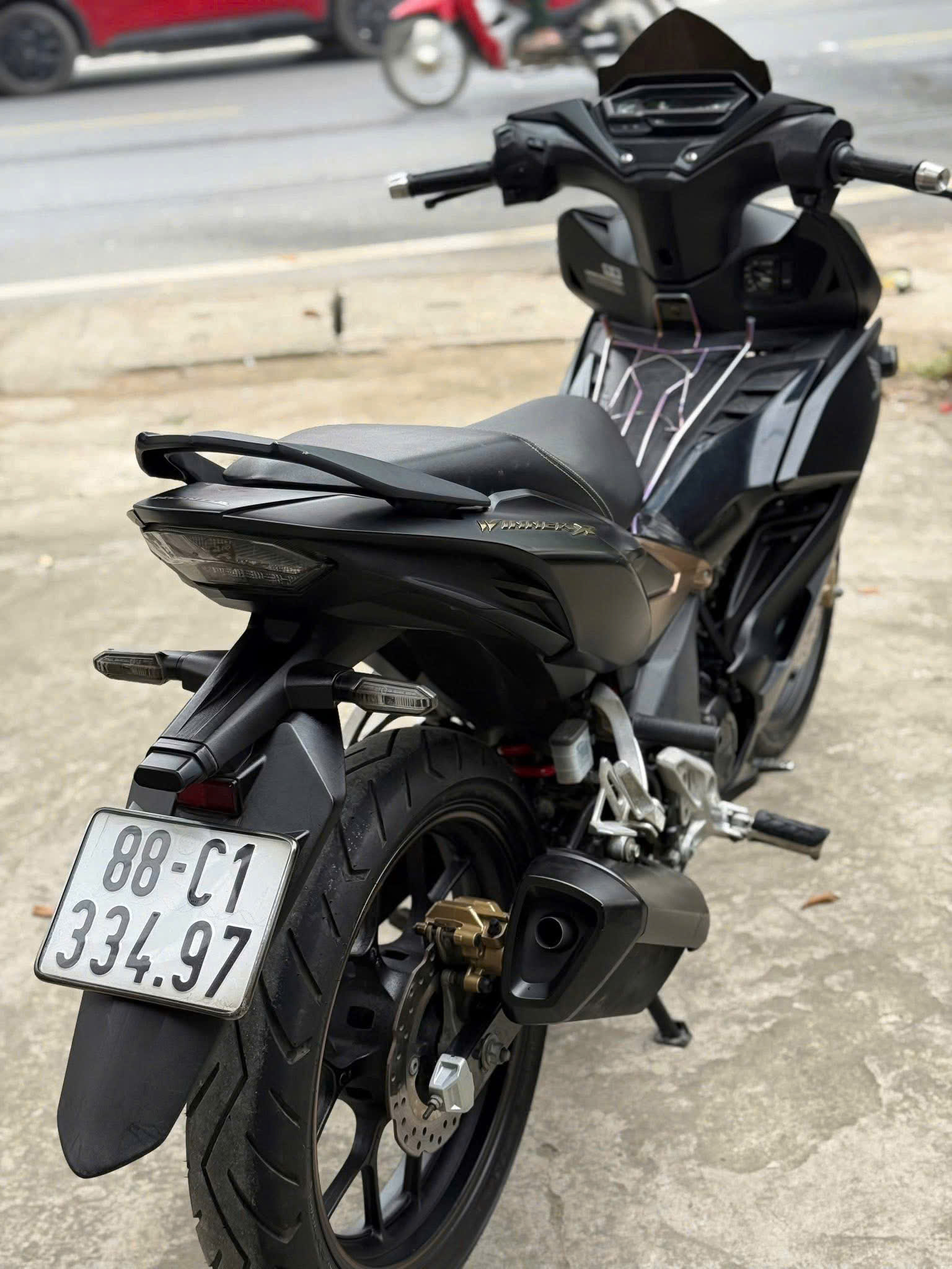Bien-so: (34, 804, 297, 1016)
